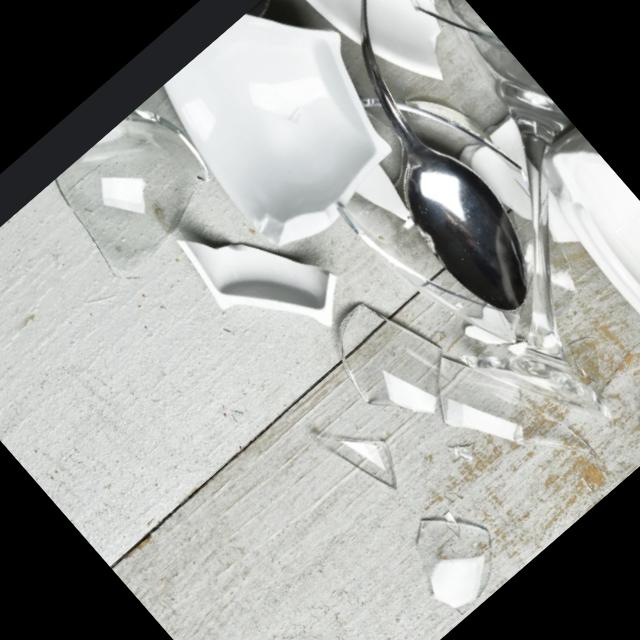PecahanKaca: (145, 0, 434, 267), (169, 176, 362, 375)
